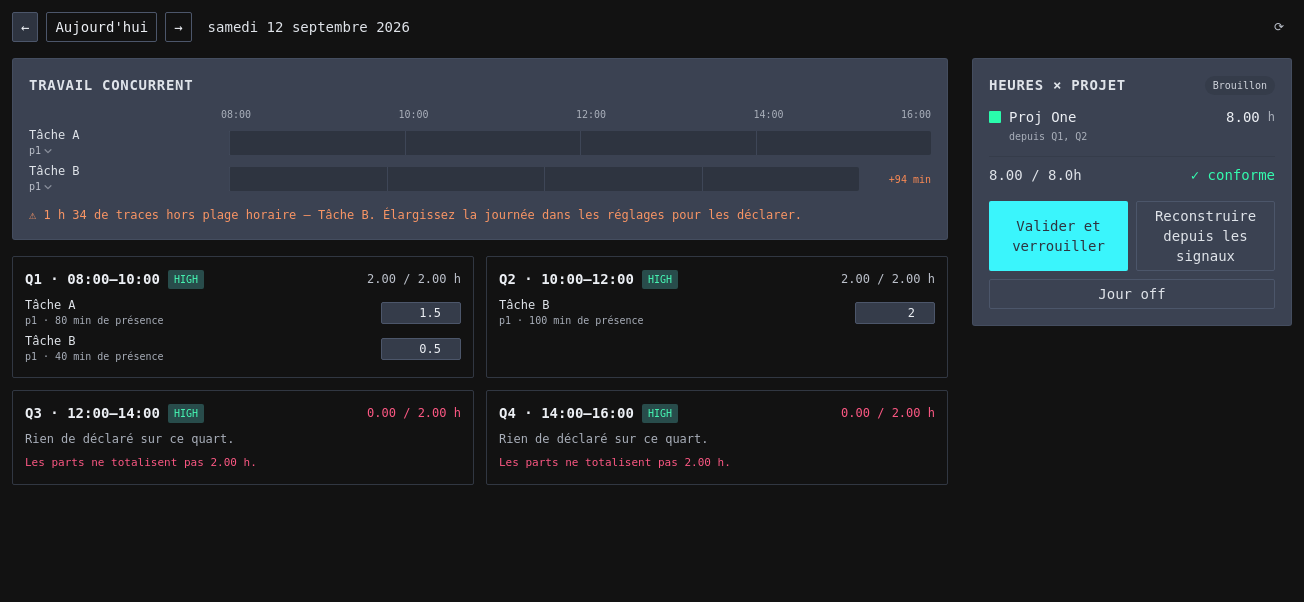
Test case: TimesheetPage › reveals the confirmation banner without reconstructing on "Reconstruire depuis les signaux"
This screenshot has width=1304, height=602.
Click the button "Reconstruire depuis les signaux".
click(1206, 236)  # box [1136,201,1275,271]
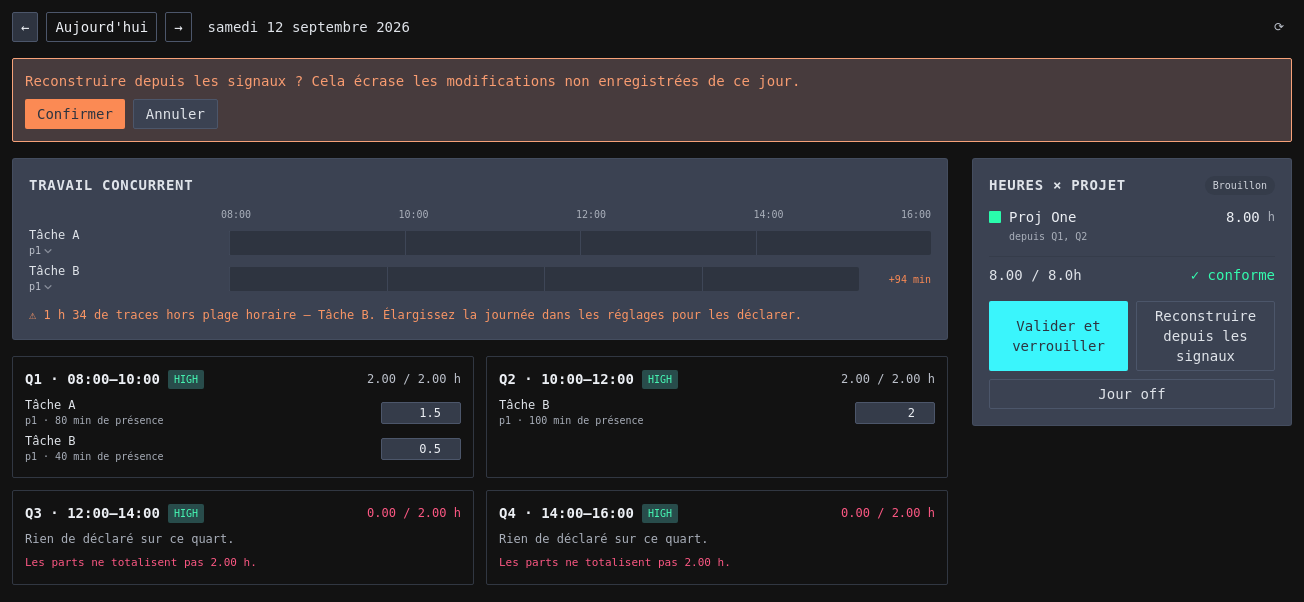
Now the text "Reconstruire depuis les signaux ?" is shown, box [25,73,800,89]
Now the button "Confirmer" is shown, box [25,99,125,129]
